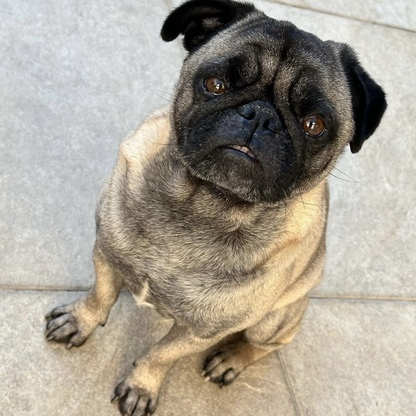Pug: (39, 1, 390, 416)
